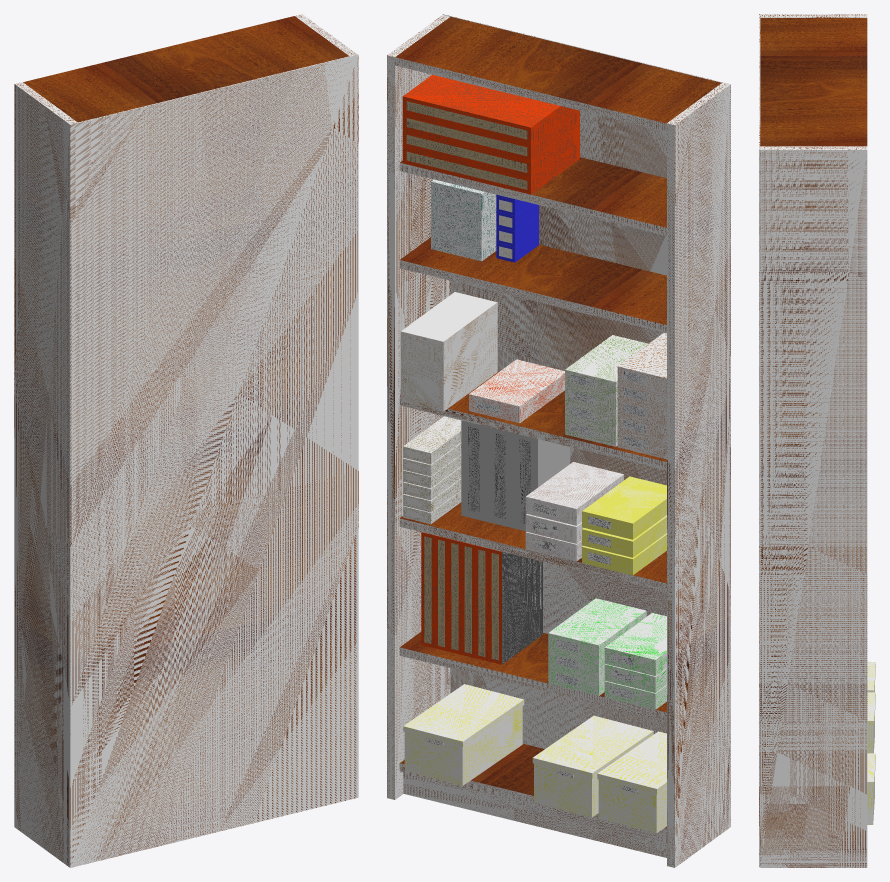
3 views of the same model, side by side, from view 1: azimuth 30°, elevation 25°; view 2: azimuth 150°, elevation 25°; view 3: azimuth 270°, elevation 25° (orthographic). The views are drawn at different scales.
Visible parts, largest first — view 1: mesh19_mesh19-geometry, mesh9_mesh9-geometry, mesh15_mesh15-geometry; view 2: mesh9_mesh9-geometry, mesh19_mesh19-geometry, mesh11_mesh11-geometry, mesh35_mesh35-geometry, mesh15_mesh15-geometry, mesh33_mesh33-geometry, mesh31_mesh31-geometry, mesh14_mesh14-geometry, mesh43_mesh43-geometry, mesh18_mesh18-geometry, mesh13_mesh13-geometry, mesh41_mesh41-geometry (+23 smaller); view 3: mesh11_mesh11-geometry, mesh15_mesh15-geometry, mesh19_mesh19-geometry, mesh35_mesh35-geometry, mesh9_mesh9-geometry.
Part boxes in pixels (<box>): mesh19_mesh19-geometry: <box>70,54,358,867</box>; mesh9_mesh9-geometry: <box>14,82,77,867</box>; mesh15_mesh15-geometry: <box>23,16,348,122</box>; mesh9_mesh9-geometry: <box>667,82,730,867</box>; mesh19_mesh19-geometry: <box>442,14,730,826</box>; mesh11_mesh11-geometry: <box>387,15,450,799</box>; mesh35_mesh35-geometry: <box>403,684,666,833</box>; mesh15_mesh15-geometry: <box>395,16,721,131</box>; mesh33_mesh33-geometry: <box>402,75,579,194</box>; mesh31_mesh31-geometry: <box>421,532,542,664</box>; mesh14_mesh14-geometry: <box>399,237,666,333</box>; mesh43_mesh43-geometry: <box>461,420,569,531</box>; mesh18_mesh18-geometry: <box>399,157,666,235</box>; mesh13_mesh13-geometry: <box>403,772,666,857</box>; mesh41_mesh41-geometry: <box>400,292,497,376</box>; mesh11_mesh11-geometry: <box>760,146,867,867</box>; mesh15_mesh15-geometry: <box>760,18,867,146</box>; mesh19_mesh19-geometry: <box>759,14,760,867</box>; mesh35_mesh35-geometry: <box>867,661,875,824</box>; mesh9_mesh9-geometry: <box>760,14,867,17</box>.
Size of the model in its own units: 0.3722 by 0.9182 by 0.1354.
